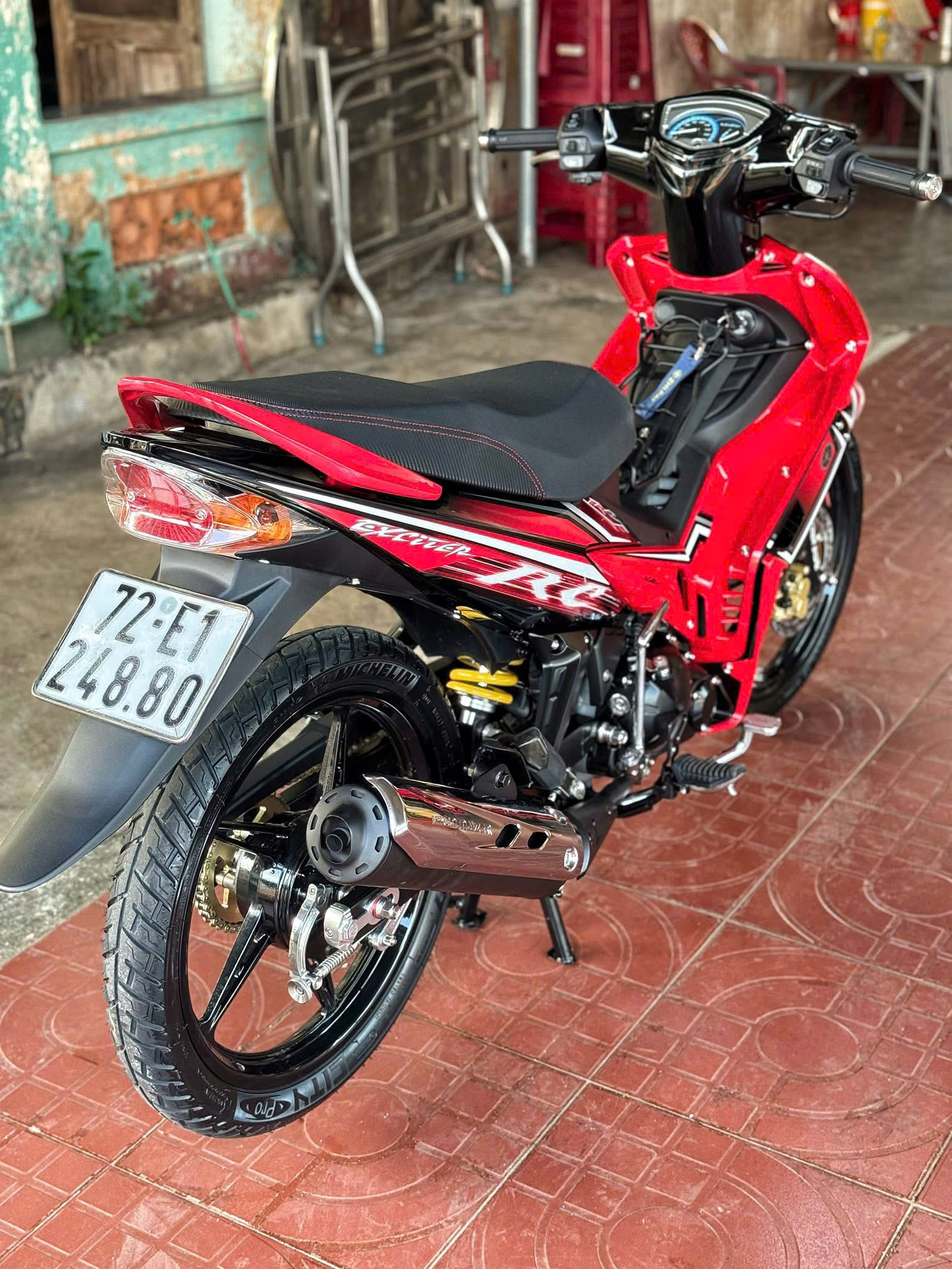Bien-so: (19, 560, 251, 738)
